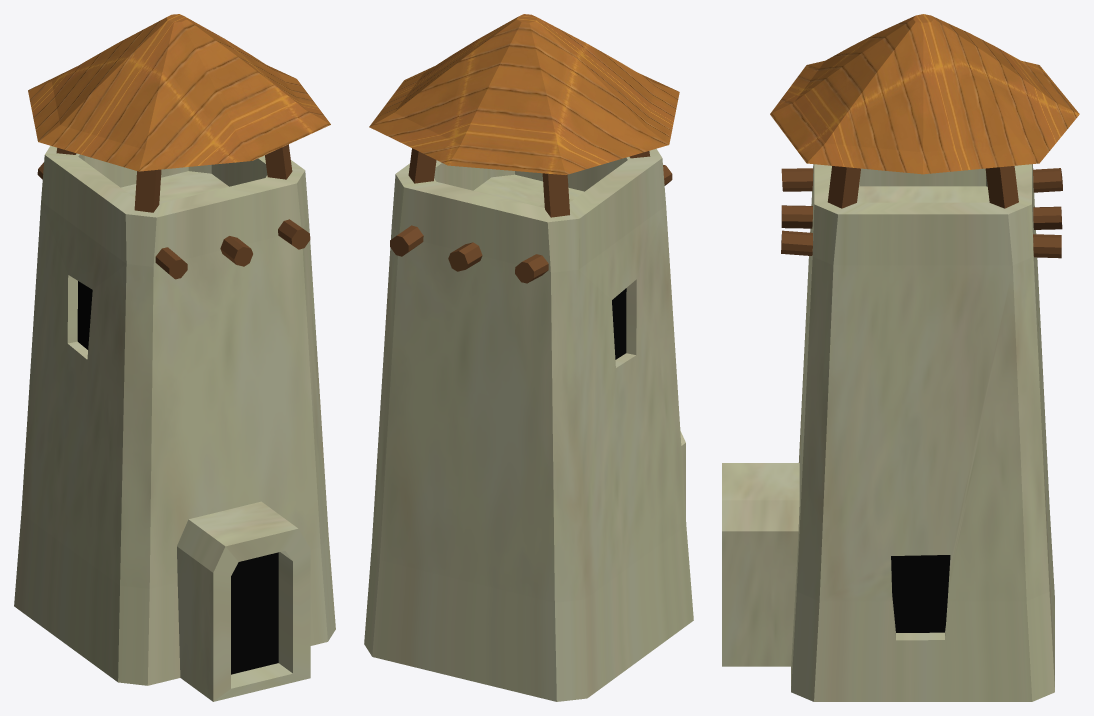
Rendered from Tall House.fbx.
The picture shows the model from 3 angles, left to right: view 1: azimuth 30°, elevation 25°; view 2: azimuth 150°, elevation 25°; view 3: azimuth 270°, elevation 25°; orthographic projection. The views are drawn at different scales.
Visible parts, largest first — view 1: Cube.025, Cube.031, Cube.026, Cube.029, Cube.030, Cube.035, Cube.037, Cube.034; view 2: Cube.025, Cube.031, Cube.027, Cube.028, Cube.032, Cube.033, Cube.036; view 3: Cube.025, Cube.031, Cube.026, Cube.028, Cube.030, Cube.034, Cube.035, Cube.037, Cube.033, Cube.036, Cube.032.
Boxes of the visible parts, <box> form: Cube.025: <box>14,145,335,685</box>; Cube.031: <box>28,14,330,171</box>; Cube.026: <box>177,501,310,701</box>; Cube.029: <box>134,169,161,212</box>; Cube.030: <box>265,144,292,179</box>; Cube.035: <box>220,236,252,266</box>; Cube.037: <box>155,247,187,279</box>; Cube.034: <box>278,219,310,249</box>; Cube.025: <box>364,148,693,701</box>; Cube.031: <box>369,14,679,174</box>; Cube.027: <box>542,173,569,217</box>; Cube.028: <box>408,148,436,183</box>; Cube.032: <box>448,242,482,271</box>; Cube.033: <box>515,254,548,283</box>; Cube.036: <box>390,225,423,256</box>; Cube.025: <box>791,164,1054,701</box>; Cube.031: <box>770,14,1079,174</box>; Cube.026: <box>722,463,799,666</box>; Cube.028: <box>985,166,1018,208</box>; Cube.030: <box>827,166,860,208</box>; Cube.034: <box>781,230,812,255</box>; Cube.035: <box>781,205,812,228</box>; Cube.037: <box>781,168,813,191</box>; Cube.033: <box>1033,168,1062,192</box>; Cube.036: <box>1033,234,1061,258</box>; Cube.032: <box>1033,206,1062,229</box>.
Bounding box in the file's own units: 816 × 1804 × 931.
Materials: 4 (2 with a texture image).
